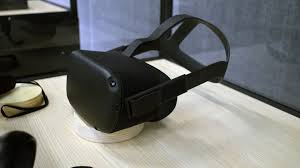oculus: (65, 48, 190, 134)
